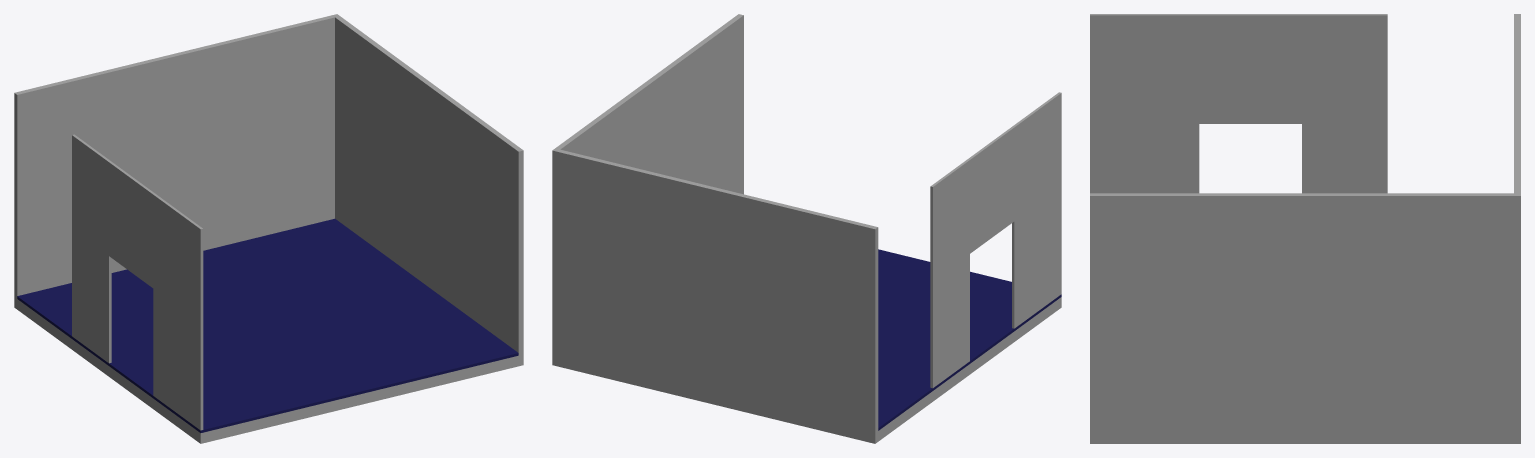
File: 4x2 first-6.obj
3 views of the same model, side by side, from view 1: azimuth 30°, elevation 25°; view 2: azimuth 150°, elevation 25°; view 3: azimuth 270°, elevation 25° (orthographic). The views are drawn at different scales.
Visible parts, largest first — view 1: 4x2 first-6; view 2: 4x2 first-6; view 3: 4x2 first-6.
Part boxes in pixels (bbox=[...]): 4x2 first-6: bbox=[14, 14, 523, 443]; 4x2 first-6: bbox=[552, 14, 1061, 443]; 4x2 first-6: bbox=[1090, 14, 1520, 443].
Size of the model in its own units: 126 by 80 by 126.
Materials: 1 (1 with a texture image).
